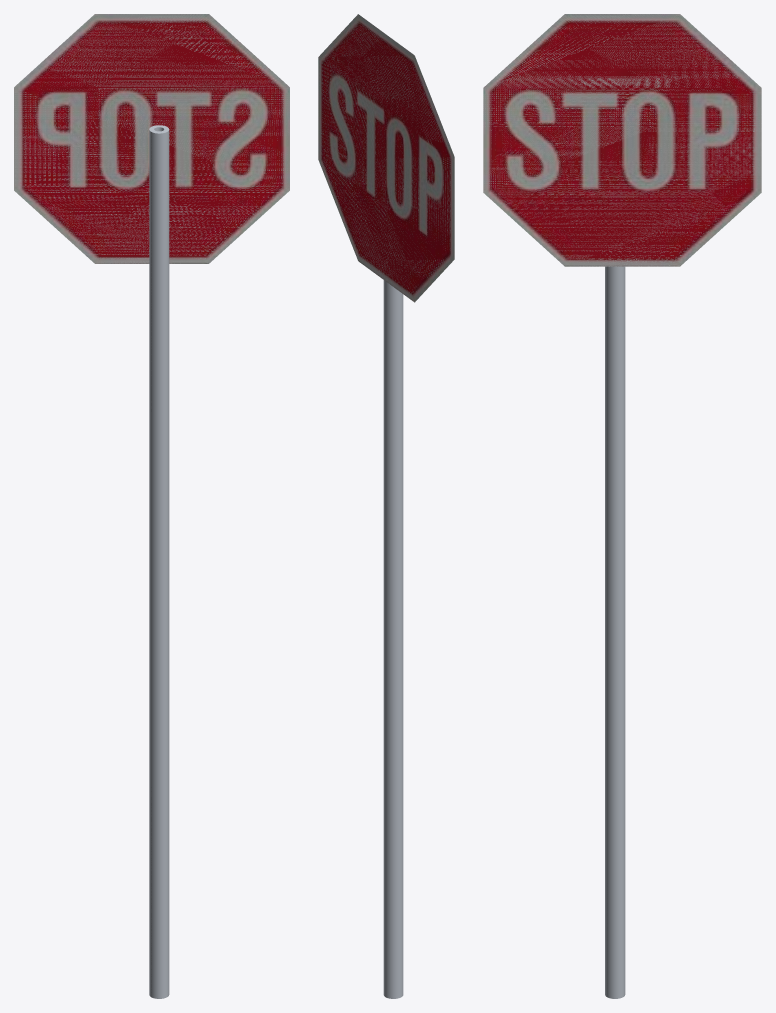
Rendered from Stop Sign.fbx.
3 renders of one model, left to right at view 1: azimuth 90°, elevation 25°; view 2: azimuth 210°, elevation 25°; view 3: azimuth 270°, elevation 25°, orthographic. The views are drawn at different scales.
Parts seen in each view (by area): view 1: Group1, Group2; view 2: Group1, Group2; view 3: Group1, Group2.
Boxes of the visible parts, box(x1,y1,x2,y2) form: Group1: box(14, 14, 289, 263); Group2: box(149, 125, 169, 998); Group1: box(318, 14, 454, 302); Group2: box(383, 280, 403, 998); Group1: box(483, 14, 761, 266); Group2: box(605, 266, 625, 998).
Size of what is drawn, in the model's own units: 2.25 by 108 by 27.72.
